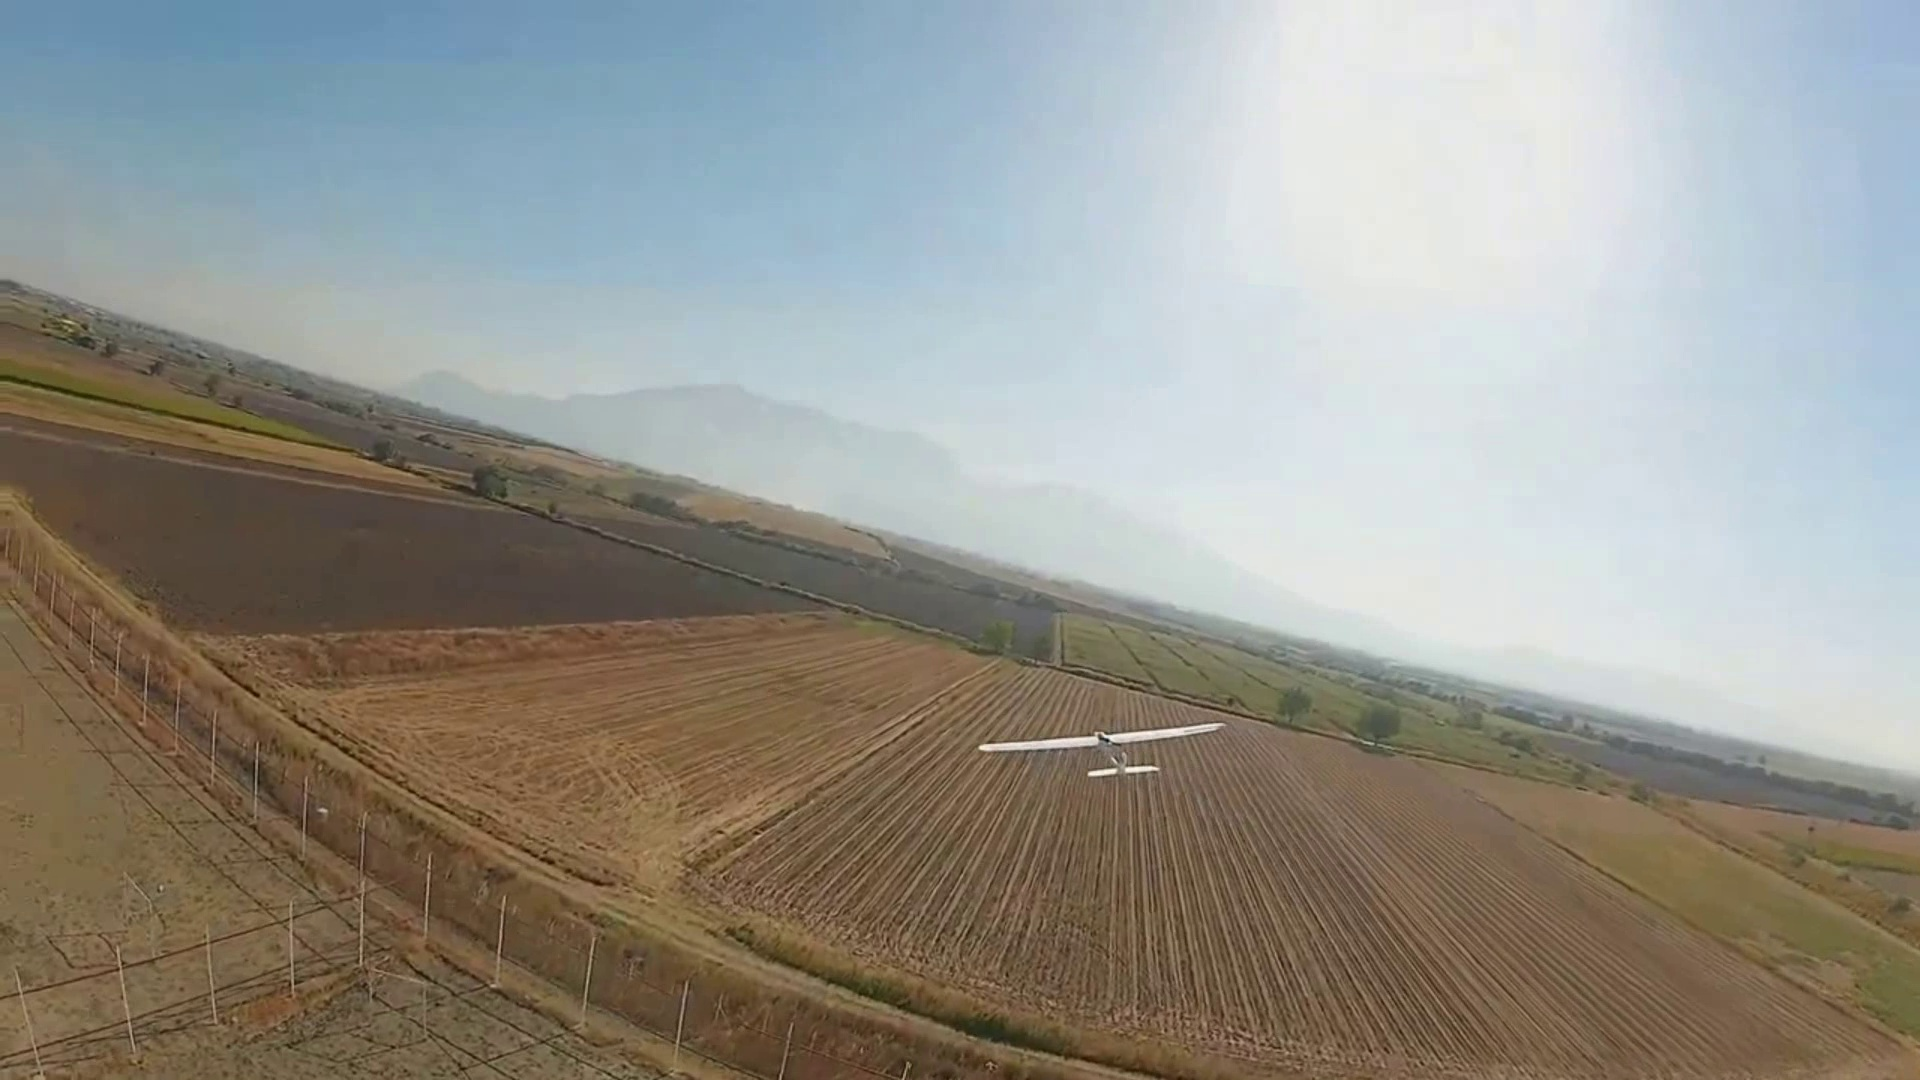airplane: (3, 276, 1911, 785)
